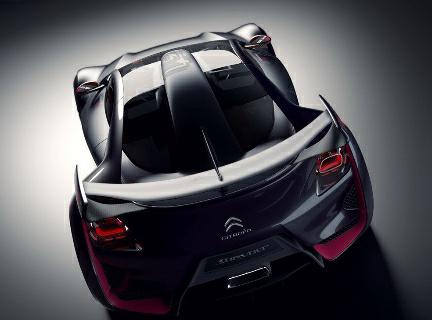雪铁龙-Survolt: (56, 19, 386, 317)
